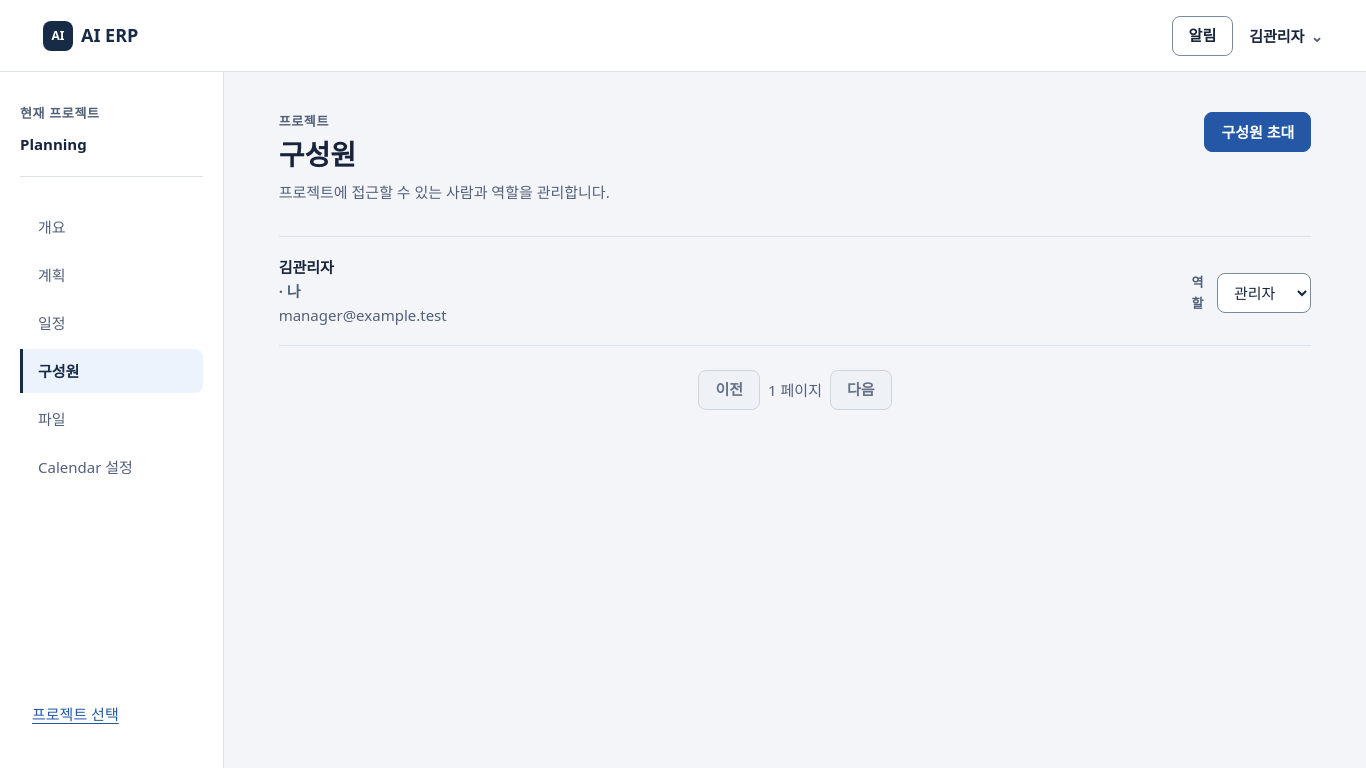
Test: share invitation is read before explicit generation and can be copied
Click the button "구성원 초대".
click(1258, 132)  # box [1204, 112, 1311, 152]
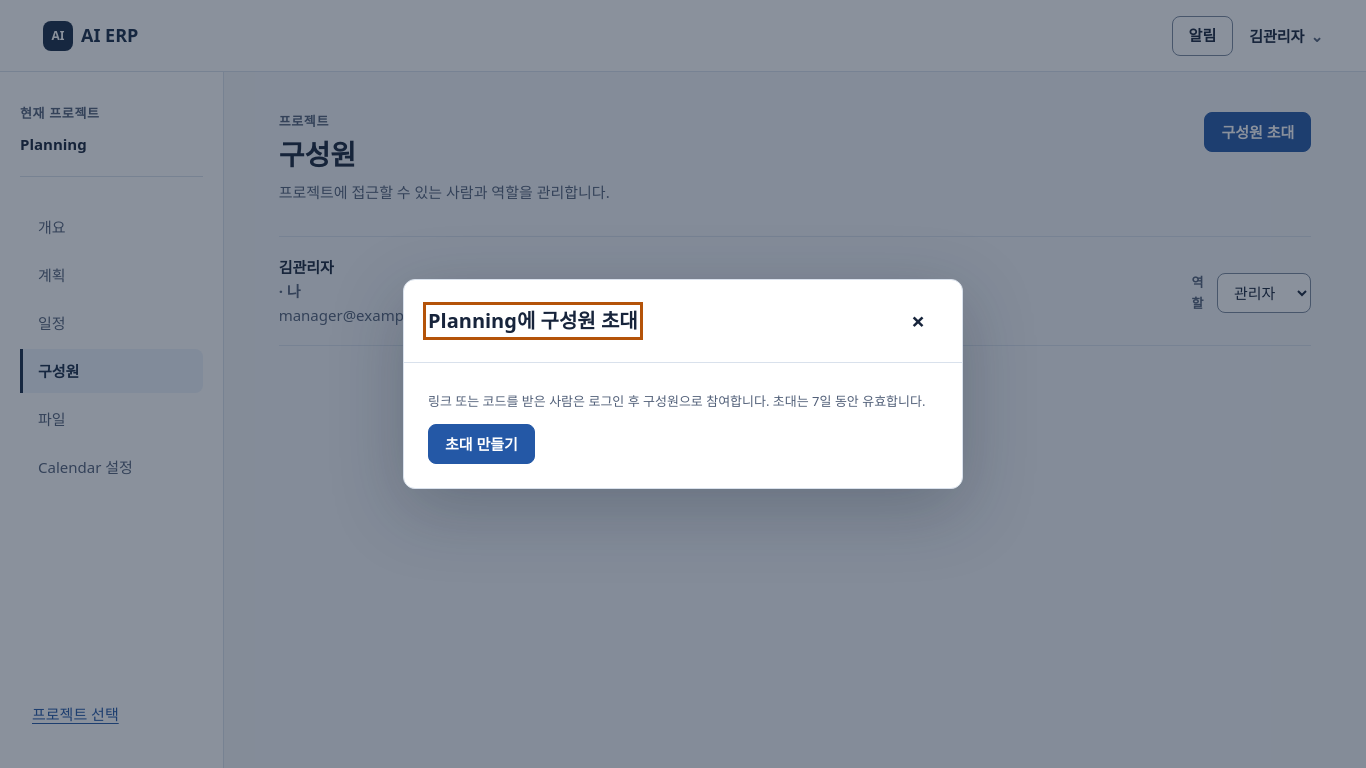
Result: the heading "Planning에 구성원 초대" is shown at [428, 307, 638, 335]
Result: the button "초대 만들기" is shown
Click the button "초대 만들기".
click(481, 444)  # box [428, 424, 535, 464]
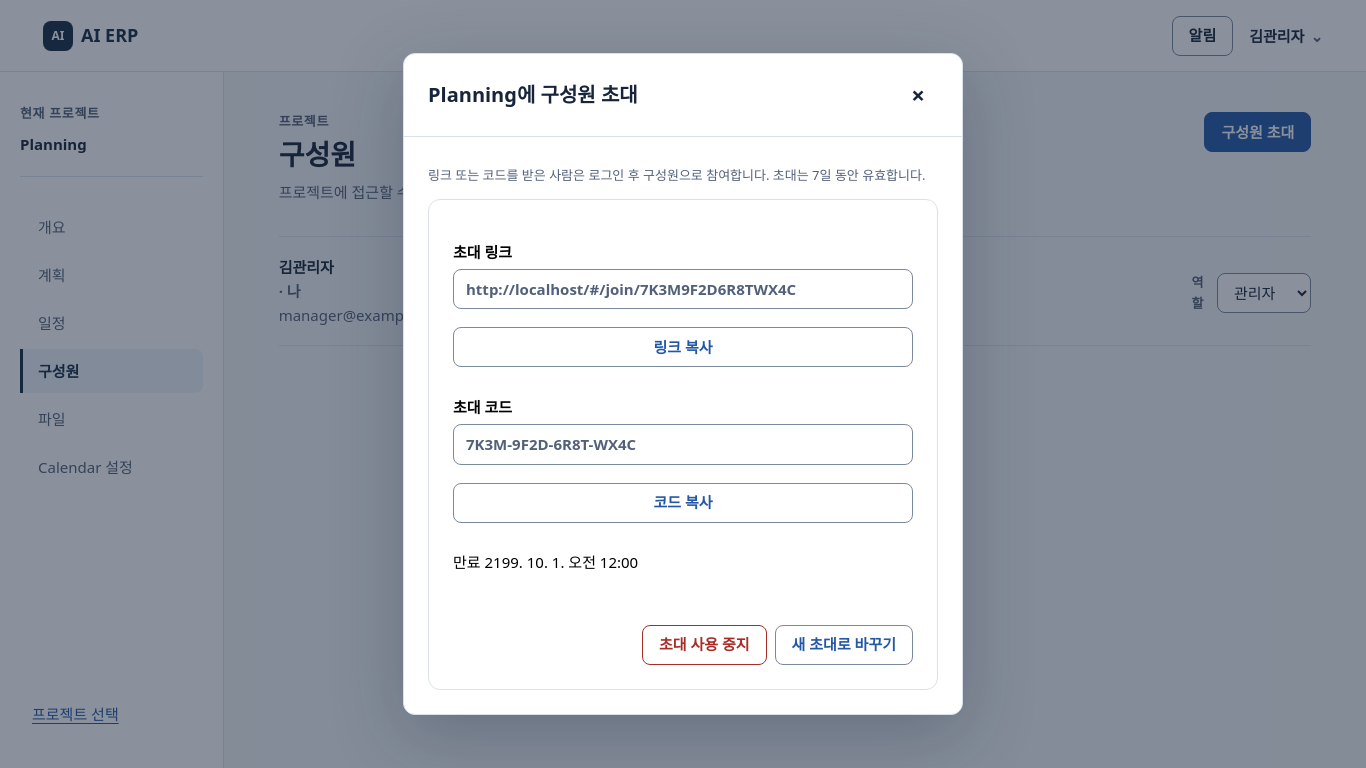
Result: the field showing "7K3M-9F2D-6R8T-WX4C" is shown at [453, 424, 913, 464]
Click the button "코드 복사".
click(683, 502)  # box [453, 482, 913, 522]
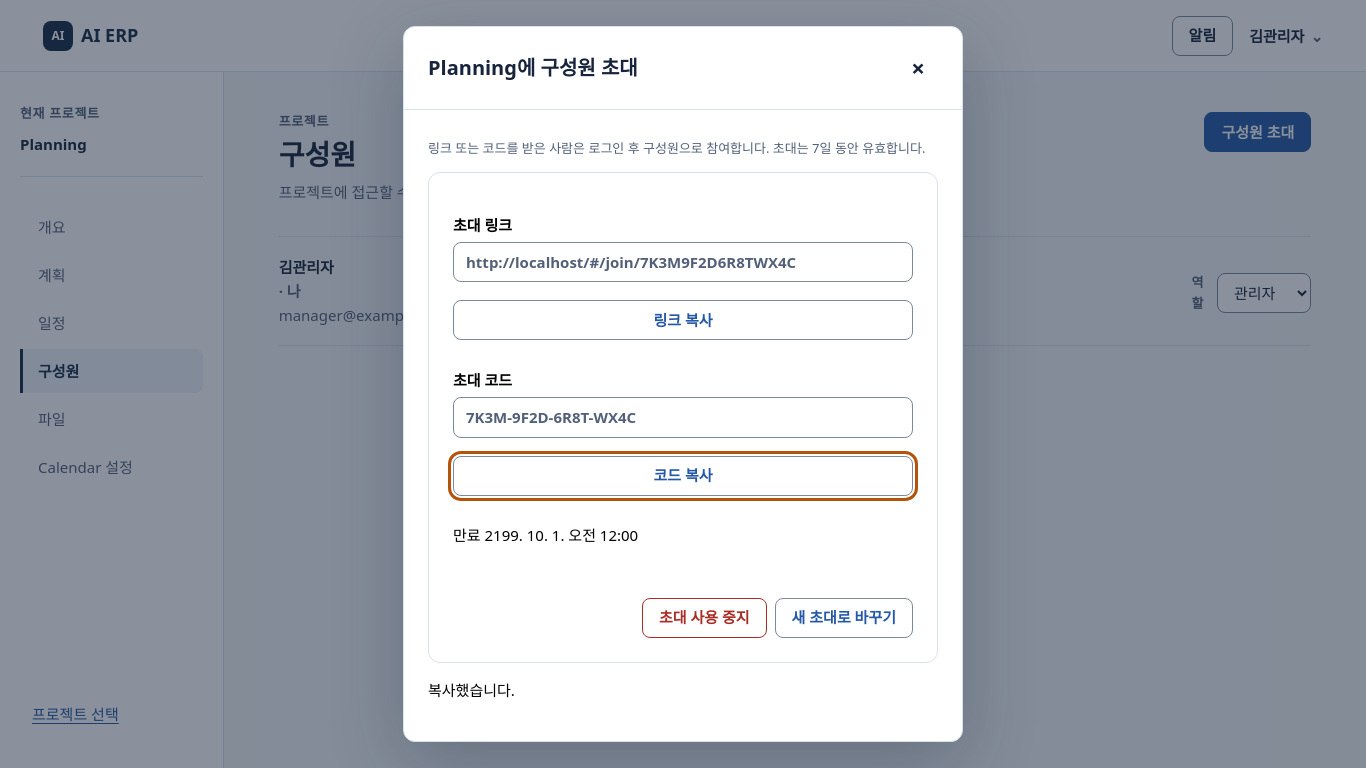
Result: the field showing "7K3M-9F2D-6R8T-WX4C" is shown at [453, 397, 913, 438]
Result: the text "복사했습니다." is shown at [428, 680, 515, 700]
